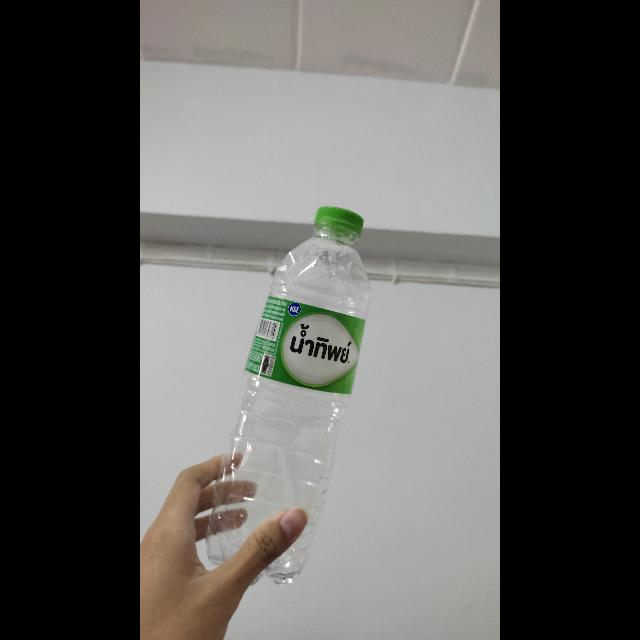plastic_bottle: (188, 202, 384, 576)
plastic_bottle_cap: (311, 201, 369, 249)
